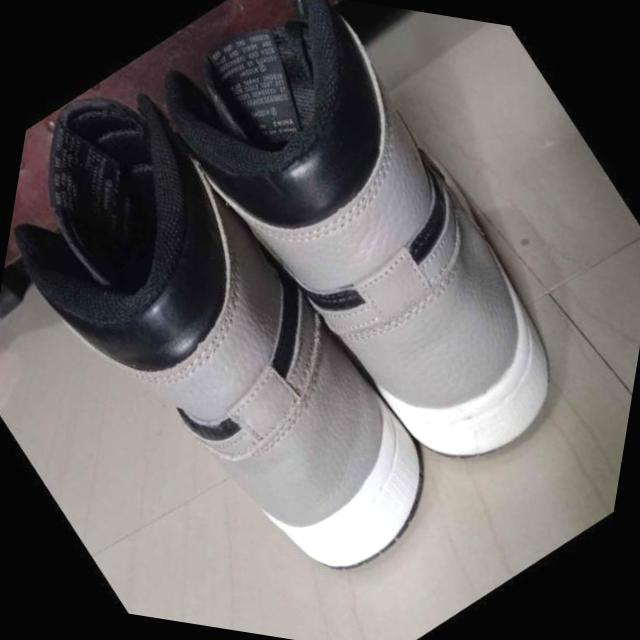nike_fake_jordan: (0, 25, 520, 640), (74, 0, 640, 530)
